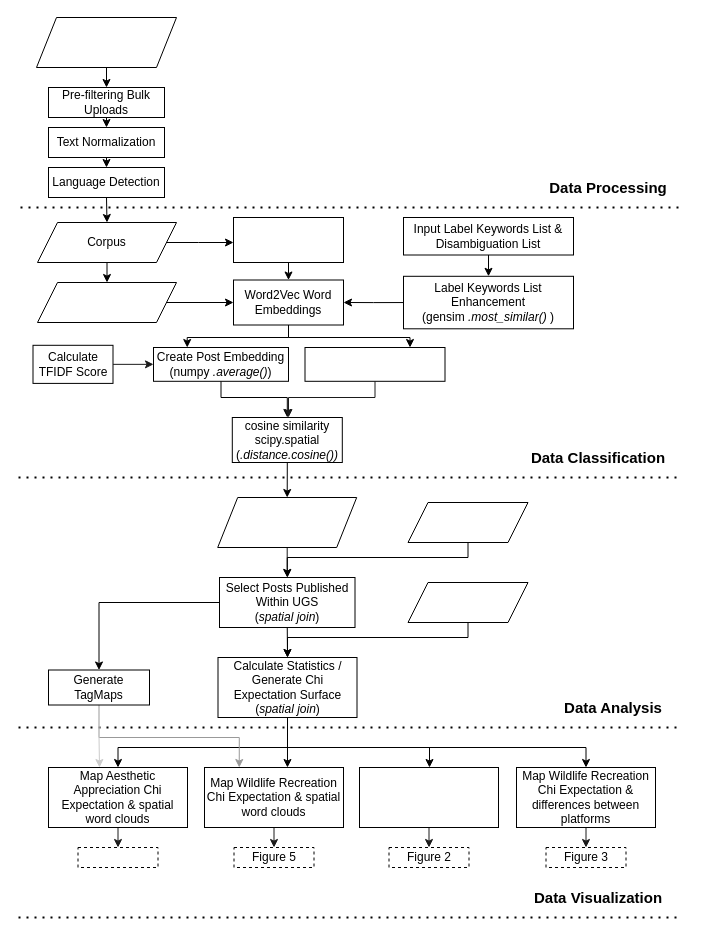
Some shapes in this 702 by 937 pixel diagram are drawn without their labels. Here are the shapes that lost their labels. From the top down, the box of each, then its label:
(36, 16, 176, 68): Instagram & Flickr Posts
(232, 216, 344, 262): Train Word2Vec Model (skip-gram)
(36, 282, 176, 322): Filtered Instagram & Flickr Posts
(304, 346, 445, 381): Create Label Embedding (numpy .average() )
(217, 496, 357, 548): Classified Instagram & Flickr Posts
(407, 502, 528, 542): UGS Polygons .geojson
(407, 582, 528, 622): Hexagons Grid .geojson
(358, 766, 498, 828): Map Aesthetic Appreciation Chi Expectation & differences between platforms
(77, 846, 158, 868): Figure 4
